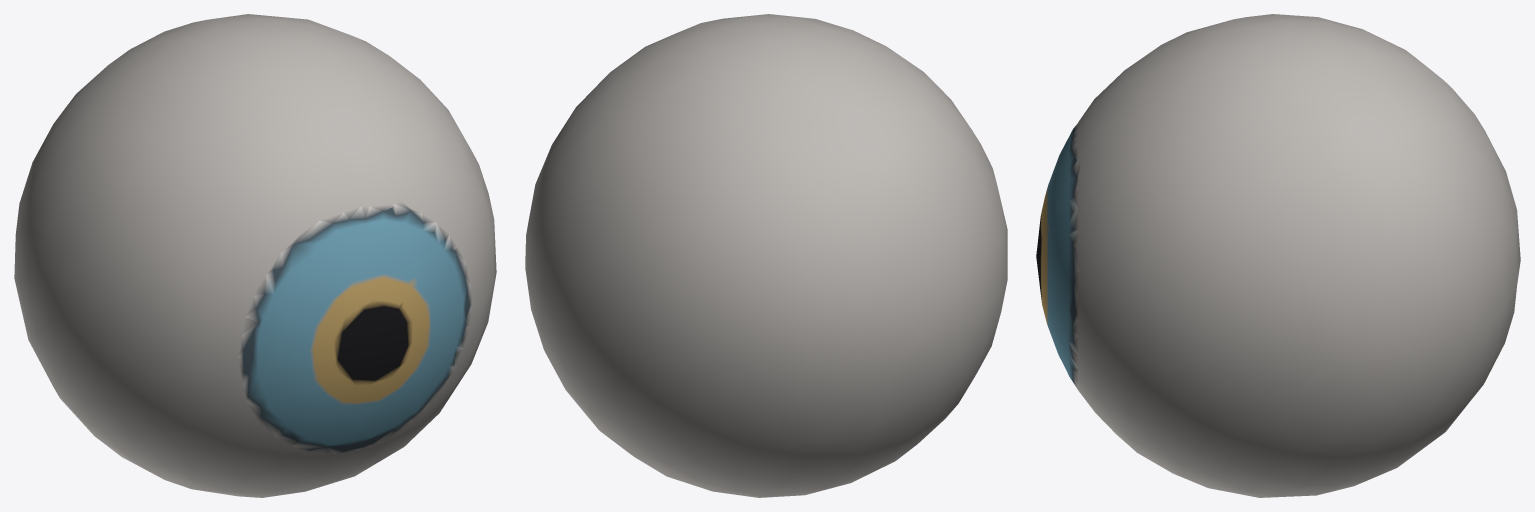
The model's file is amanita-scout-eye1.glb.
3 views of the same model, side by side, from view 1: azimuth 30°, elevation 25°; view 2: azimuth 150°, elevation 25°; view 3: azimuth 270°, elevation 25° (orthographic).
Parts seen in each view (by area): view 1: body; view 2: body; view 3: body.
Boxes of the visible parts, bbox=[...] form: body: bbox=[14, 14, 496, 497]; body: bbox=[525, 14, 1007, 497]; body: bbox=[1036, 14, 1520, 497].
Bounding box in the file's own units: 0.2404 × 0.2403 × 0.2408.
